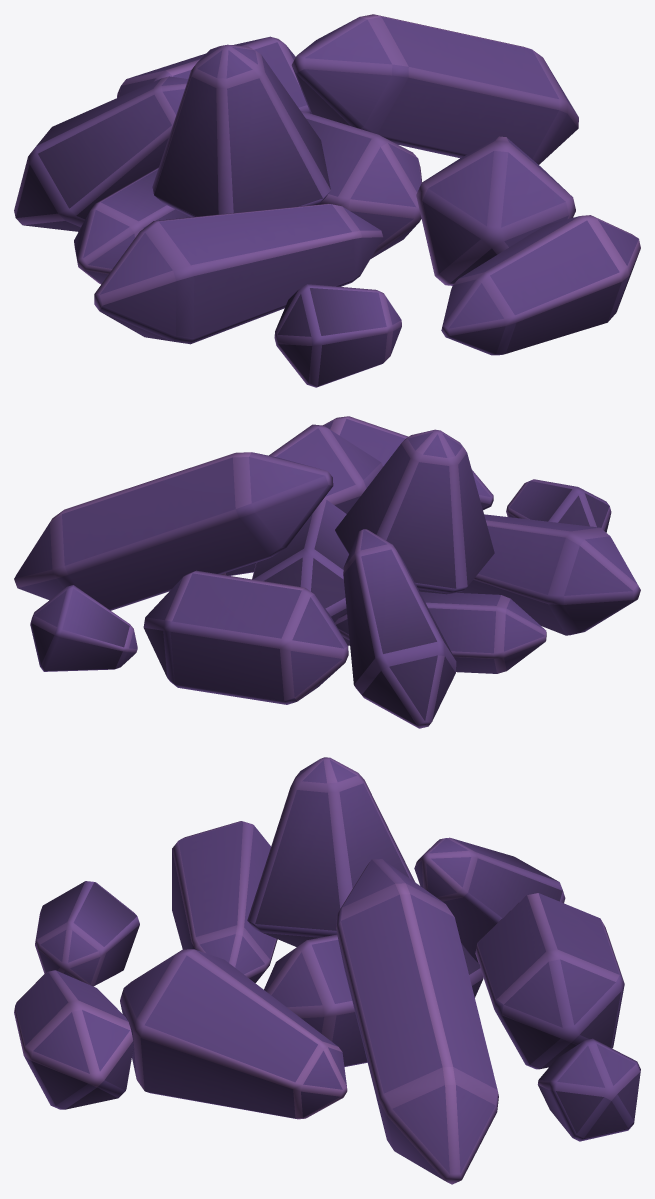
Rendered from christal_amethyst_pile.fbx.
The picture shows the model from 3 angles, top to bottom: view 1: azimuth 30°, elevation 25°; view 2: azimuth 150°, elevation 25°; view 3: azimuth 270°, elevation 25°; orthographic projection. The views are drawn at different scales.
Parts seen in each view (by area): view 1: christal_amethyst_pile; view 2: christal_amethyst_pile; view 3: christal_amethyst_pile.
Boxes of the visible parts, x1,y1,x2,y2 form: christal_amethyst_pile: [14, 14, 640, 387]; christal_amethyst_pile: [14, 416, 640, 728]; christal_amethyst_pile: [14, 757, 640, 1184].
Bounding box in the file's own units: 182 × 69.99 × 169.
1 material, 1 textured.
